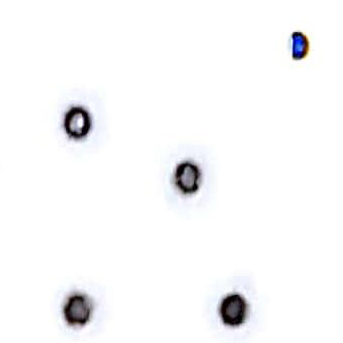cancer: (144, 138, 227, 217), (44, 268, 121, 343), (195, 270, 272, 341), (45, 86, 120, 158)
normal: (277, 18, 322, 76)
